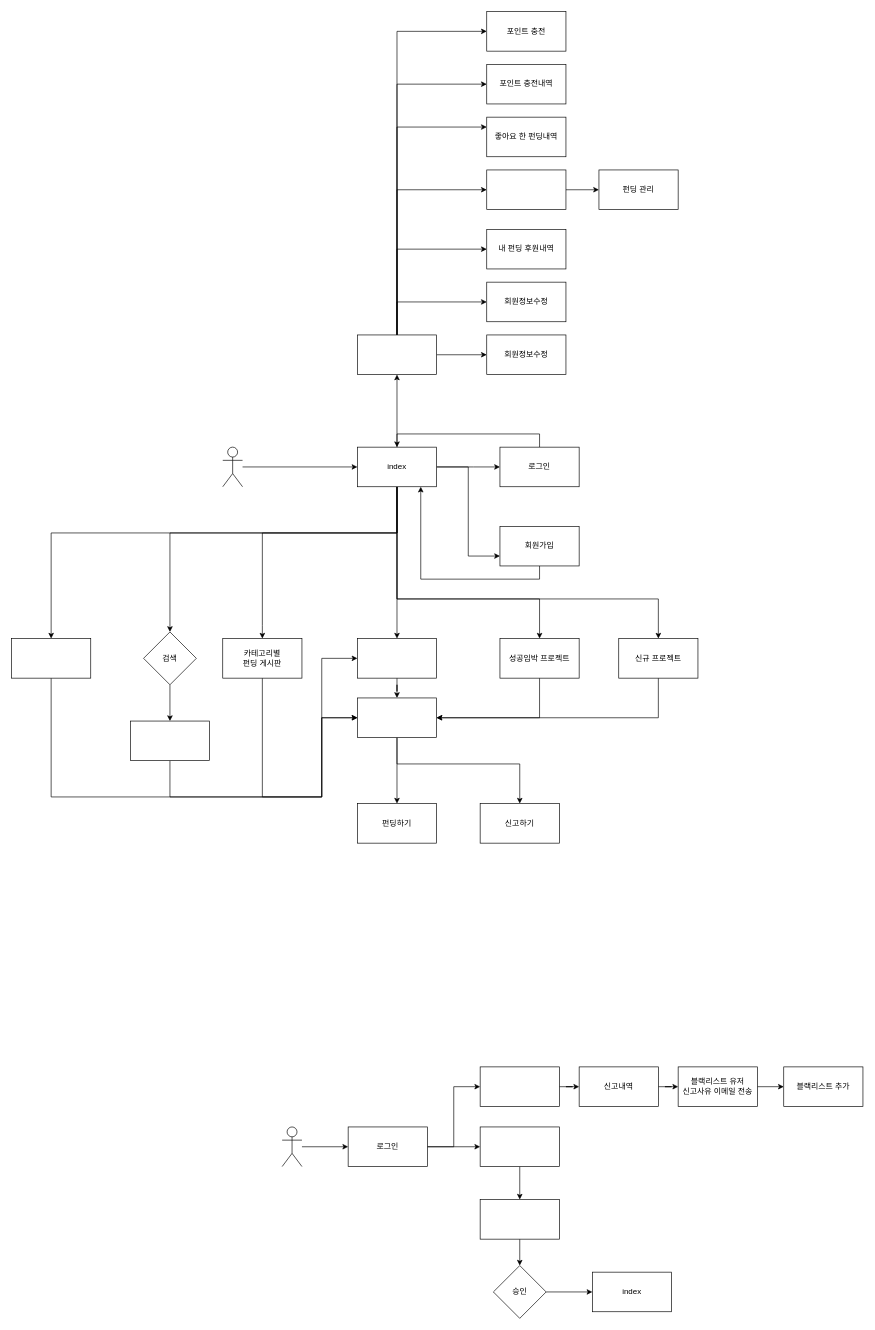
This 875x1330 diagram has some shape labels left out. The centre of each missing label's shape, as x and y in pixels:
"검색된 태그 펀딩 게시판" goes at pixel 170 740.
"관리자" goes at pixel 291 1146.
"내 펀딩내역" goes at pixel 526 189.
"등록된 펀딩 게시글" goes at pixel 519 1146.
"마이페이지" goes at pixel 397 354.
"사용자" goes at pixel 232 466.
"신고 유저 확인" goes at pixel 519 1086.
"펀딩 게시판" goes at pixel 397 658.
"펀딩 글 올리기" goes at pixel 51 658.
"펀딩 상세내역" goes at pixel 519 1219.
"펀딩 상세내용" goes at pixel 397 717.
